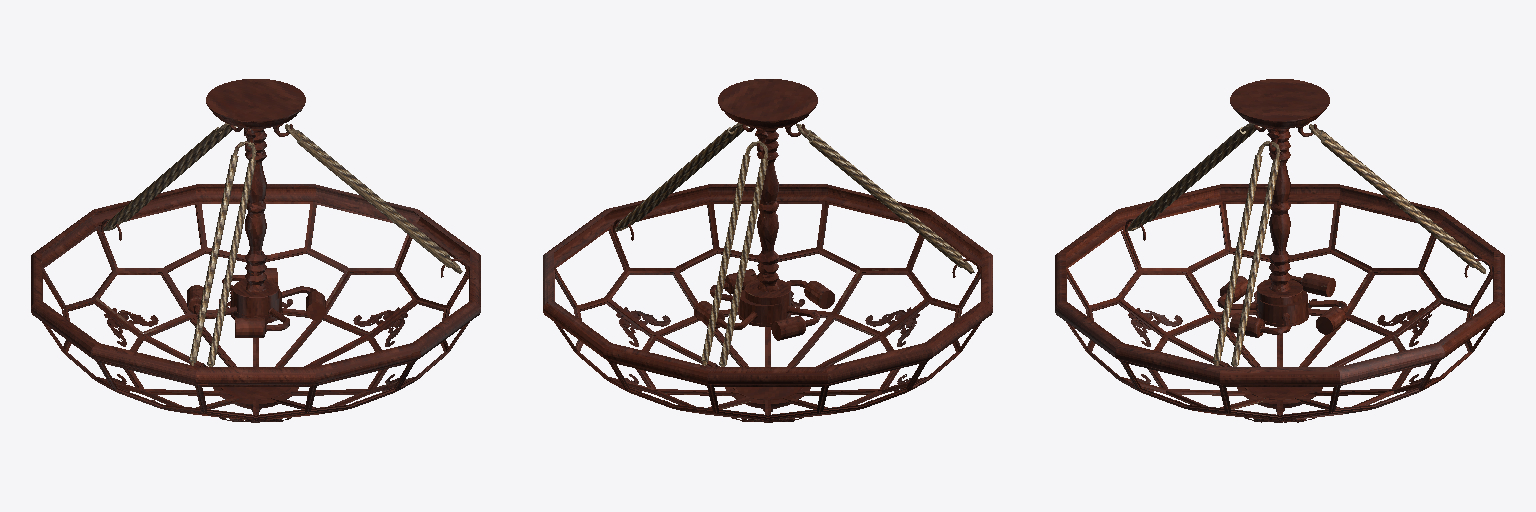
3 renders of one model, left to right at view 1: azimuth 30°, elevation 25°; view 2: azimuth 150°, elevation 25°; view 3: azimuth 270°, elevation 25°, orthographic.
Parts seen in each view (by area): view 1: solid_001, solid_002; view 2: solid_001, solid_002; view 3: solid_001, solid_002.
Part boxes in pixels (x1,y1,x2,y2): solid_001: (31,79,480,422); solid_002: (103,123,462,366); solid_001: (543,79,992,422); solid_002: (615,123,974,366); solid_001: (1055,79,1504,422); solid_002: (1127,123,1485,366).
Bounding box in the file's own units: 1.58 × 1.21 × 1.58.
1 materials, 1 textured.